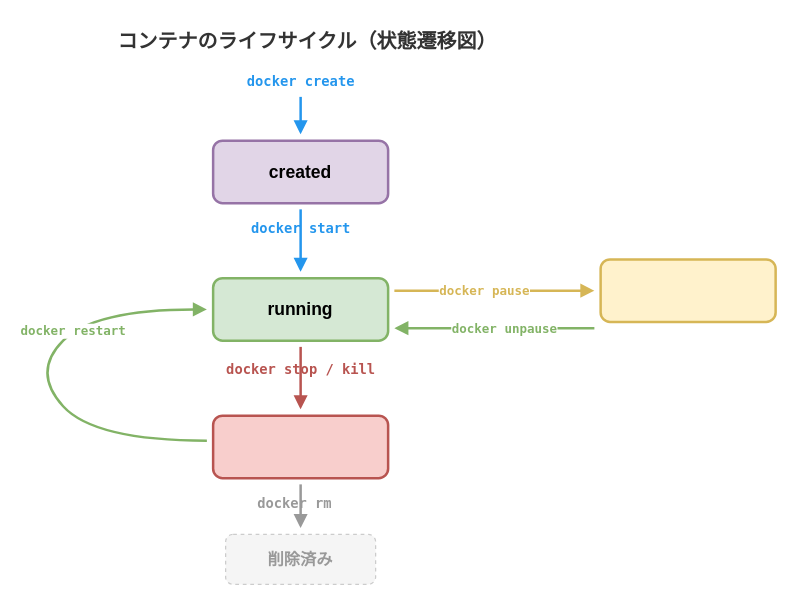
This 799x606 diagram has some shape labels left out. Each missing label, with the centre of its shape:
exited: point (300, 446)
paused: point (687, 290)
